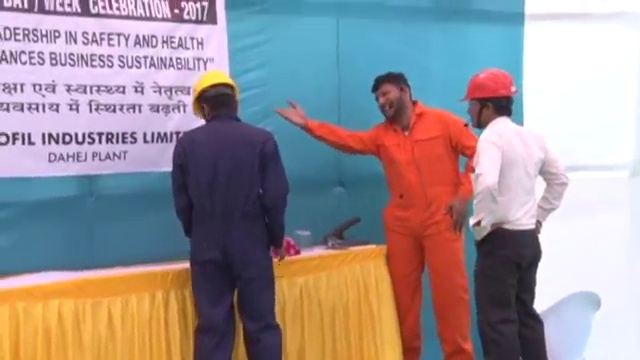helmet: (189, 70, 239, 116), (459, 66, 519, 100)
helmet_off: (371, 72, 416, 126)
helmet_on: (458, 65, 522, 131), (188, 70, 242, 124)
person: (277, 71, 478, 360), (171, 71, 291, 360), (458, 65, 570, 360)
